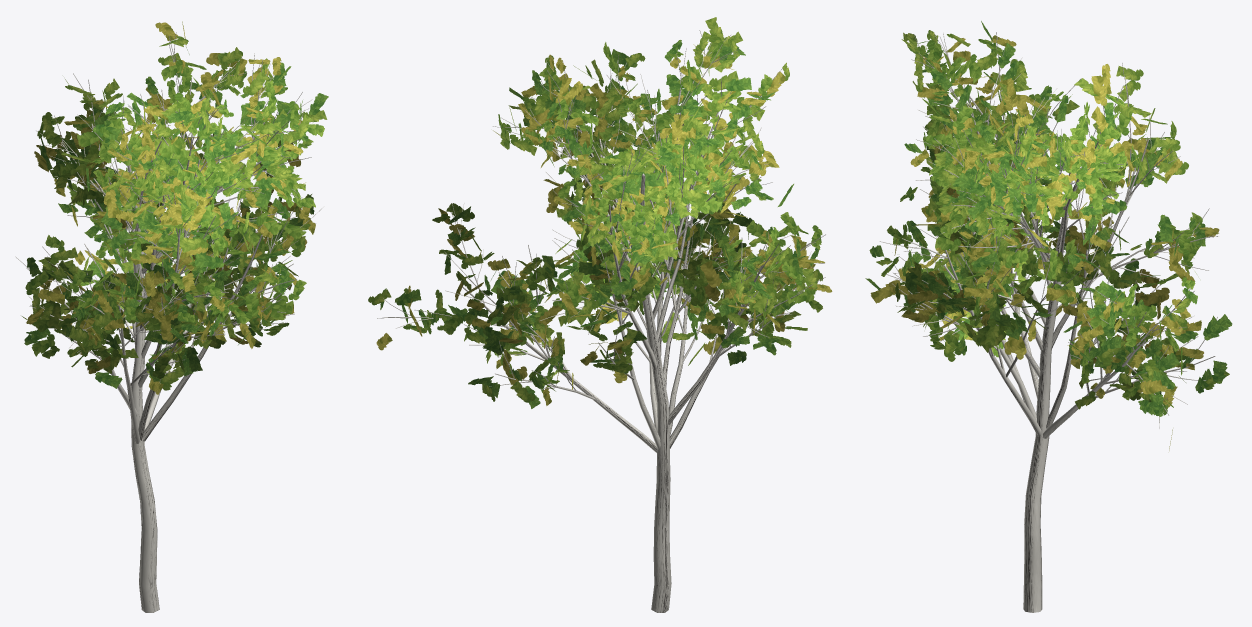
The model's file is hero_birch_b.obj.
3 views of the same model, side by side, from view 1: azimuth 30°, elevation 25°; view 2: azimuth 150°, elevation 25°; view 3: azimuth 270°, elevation 25° (orthographic). The views are drawn at different scales.
Visible parts, largest first — view 1: hero_birch_b; view 2: hero_birch_b; view 3: hero_birch_b.
Part boxes in pixels (x1,y1,x2,y2): hero_birch_b: (15,21,328,612); hero_birch_b: (368,17,832,612); hero_birch_b: (865,21,1232,612).
Bounding box in the file's own units: 10.51 × 14.48 × 8.54.
2 materials, 2 textured.
